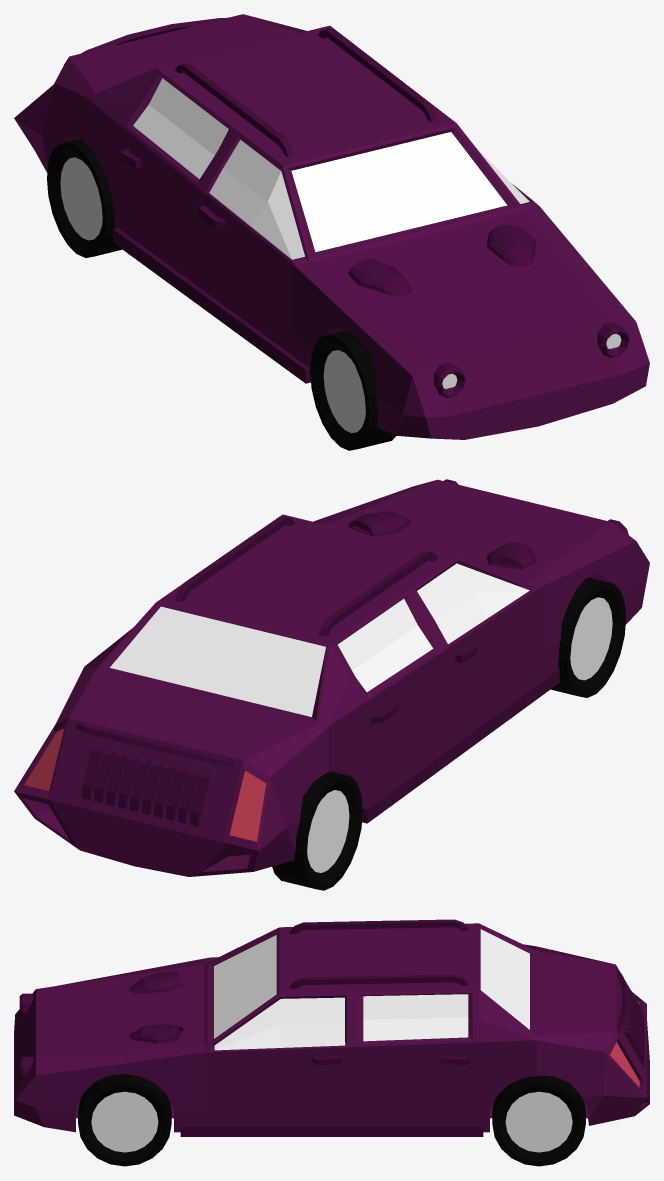
File: SportsCarLowPoly_3.fbx
The picture shows the model from 3 angles, top to bottom: view 1: azimuth 30°, elevation 25°; view 2: azimuth 150°, elevation 25°; view 3: azimuth 270°, elevation 25°; orthographic projection. The views are drawn at different scales.
Visible parts, largest first — view 1: Cube, Cube.002, Cube.003, Cylinder, Cube.006, Cube.007, Cylinder.002, Cylinder.001, Cube.005, Cube.004; view 2: Cube, Cube.002, Cube.003, Cylinder, Cube.001, Cube.006, Cube.007, Cylinder.002, Cube.005, Cube.004; view 3: Cube, Cube.002, Cube.003, Cylinder, Cube.006, Cube.007, Cylinder.002, Cube.001, Cylinder.001, Cube.004, Cube.005.
Part boxes in pixels (left/top/right/bottom): Cube: left=14, top=14, right=649, bottom=439; Cube.002: left=200, top=130, right=539, bottom=357; Cube.003: left=120, top=68, right=236, bottom=287; Cylinder: left=47, top=138, right=396, bottom=450; Cube.006: left=113, top=228, right=310, bottom=383; Cube.007: left=175, top=28, right=437, bottom=157; Cylinder.002: left=348, top=224, right=535, bottom=296; Cylinder.001: left=434, top=322, right=629, bottom=397; Cube.005: left=81, top=17, right=227, bottom=53; Cube.004: left=120, top=148, right=226, bottom=228; Cube: left=14, top=479, right=649, bottom=876; Cube.002: left=410, top=557, right=540, bottom=747; Cube.003: left=330, top=589, right=445, bottom=806; Cylinder: left=272, top=577, right=626, bottom=890; Cube.001: left=82, top=745, right=210, bottom=826; Cube.006: left=362, top=668, right=559, bottom=823; Cube.007: left=175, top=516, right=437, bottom=636; Cylinder.002: left=348, top=511, right=535, bottom=569; Cube.005: left=75, top=723, right=233, bottom=766; Cube.004: left=371, top=643, right=477, bottom=723; Cube: left=14, top=923, right=649, bottom=1132; Cube.002: left=203, top=957, right=352, bottom=1124; Cube.003: left=352, top=990, right=479, bottom=1124; Cylinder: left=78, top=1074, right=585, bottom=1166; Cube.006: left=180, top=1124, right=483, bottom=1136; Cube.007: left=290, top=919, right=468, bottom=989; Cylinder.002: left=129, top=971, right=183, bottom=1043; Cube.001: left=623, top=988, right=644, bottom=1066; Cylinder.001: left=19, top=993, right=33, bottom=1081; Cube.004: left=312, top=1055, right=470, bottom=1065; Cube.005: left=617, top=969, right=628, bottom=1033.
Bounding box in the file's own units: 111 × 86.36 × 295.
1 material, 1 textured.
